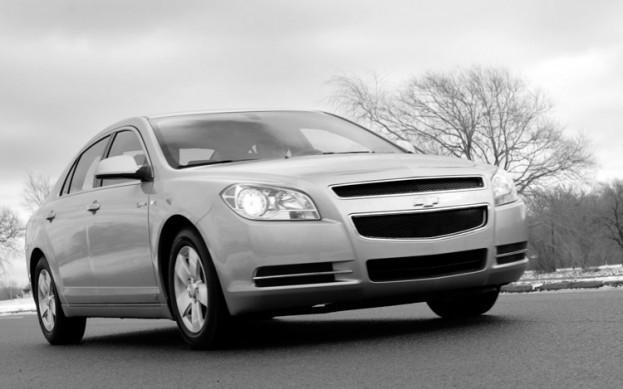car: (28, 110, 530, 350)
